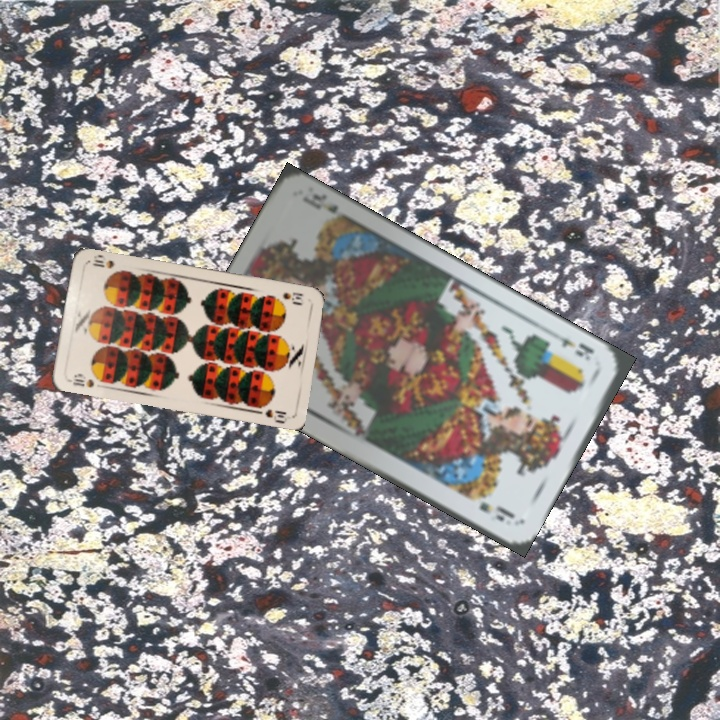EK: (550, 329, 597, 364)
S10: (69, 371, 97, 390), (279, 288, 306, 306)
